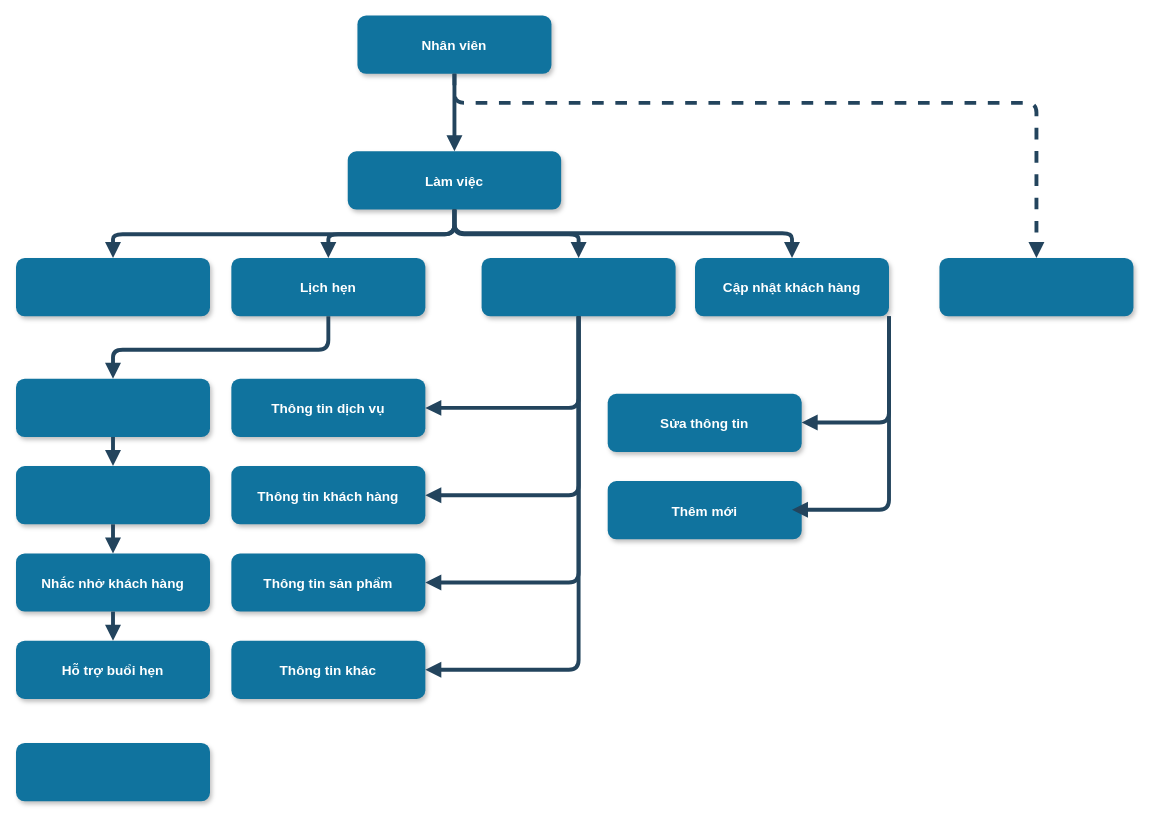
Image size: 1149x817. Some labels were removed from this diagram. Here are the shapes that lost their labels. From the top down, the centre of each, then its label:
At pixel 113 288: "Tư vấn khách hàng".
At pixel 579 288: "Tra cứu thông tin".
At pixel 1037 288: "Đăng xuất".
At pixel 113 408: "Xác nhận lịch hẹn".
At pixel 113 496: "Xác định nhân viên chăm".
At pixel 113 773: "Office of Intelligence Support".
